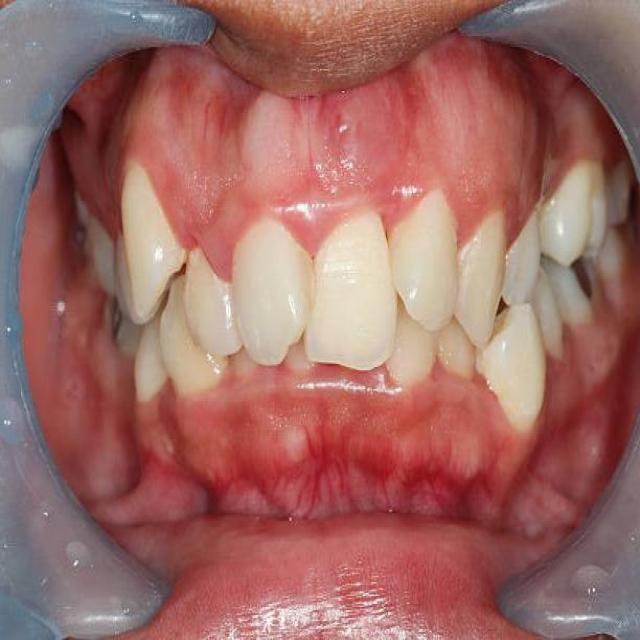caries: (560, 236, 613, 321)
